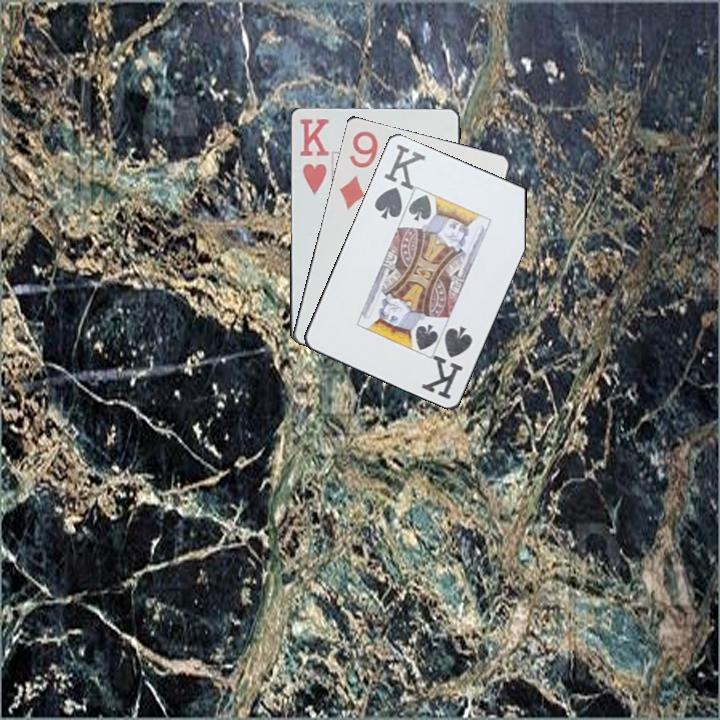9d: (334, 127, 382, 213)
Kh: (296, 114, 332, 198)
Ks: (370, 140, 427, 222), (419, 322, 476, 402)
